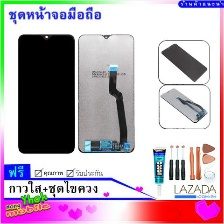phone: (13, 29, 76, 155), (76, 31, 138, 155), (159, 40, 210, 83), (160, 86, 209, 126)
